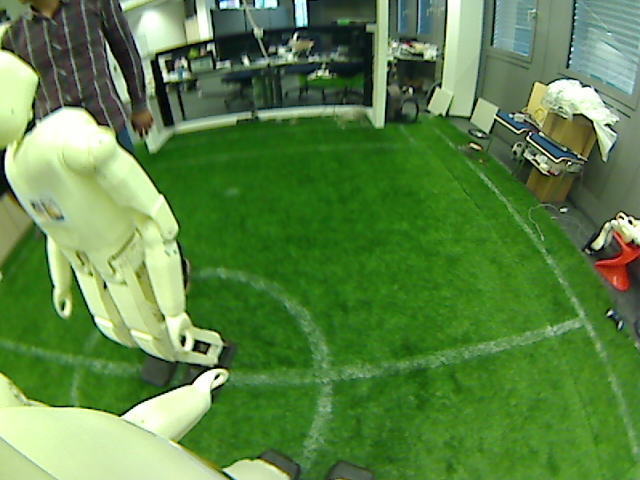ball: (510, 138, 526, 160)
goalpost: (372, 79, 388, 128), (144, 125, 162, 154)
robot: (139, 323, 206, 387)
